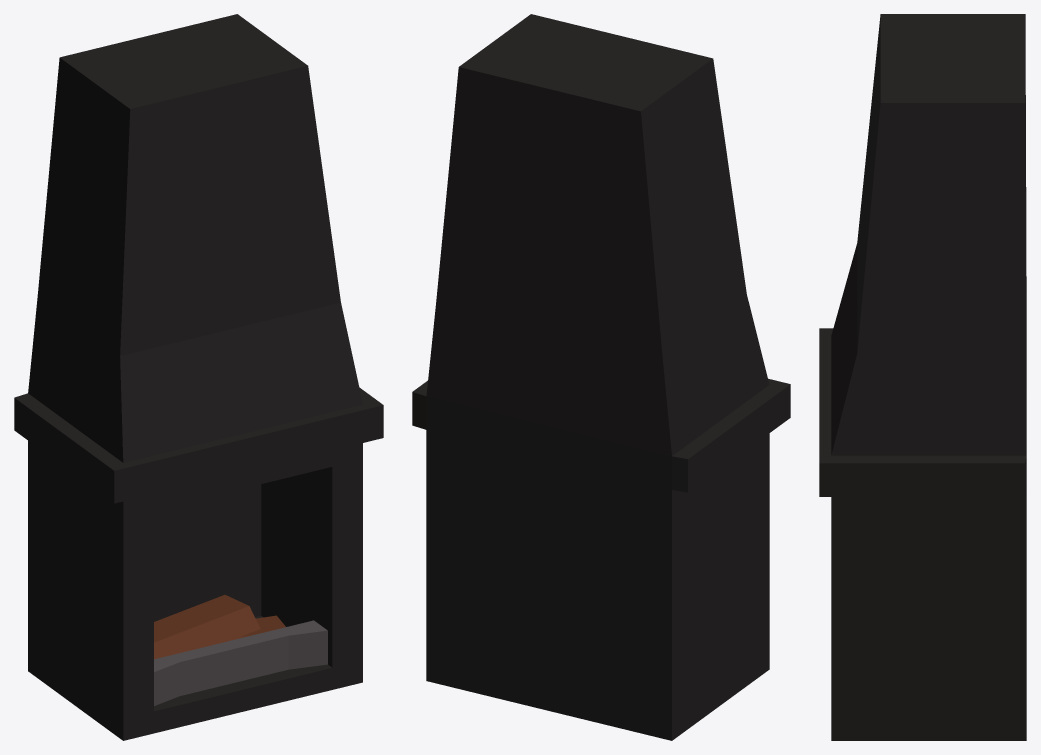
File: Furnace.fbx
The picture shows the model from 3 angles, left to right: view 1: azimuth 30°, elevation 25°; view 2: azimuth 150°, elevation 25°; view 3: azimuth 270°, elevation 25°; orthographic projection. The views are drawn at different scales.
Visible parts, largest first — view 1: Furnace; view 2: Furnace; view 3: Furnace.
Boxes of the visible parts, box(x1,y1,x2,y2) form: Furnace: box(14, 14, 383, 740); Furnace: box(412, 14, 790, 740); Furnace: box(819, 14, 1026, 740).
Size of the model in its own units: 430 by 926 by 280.
